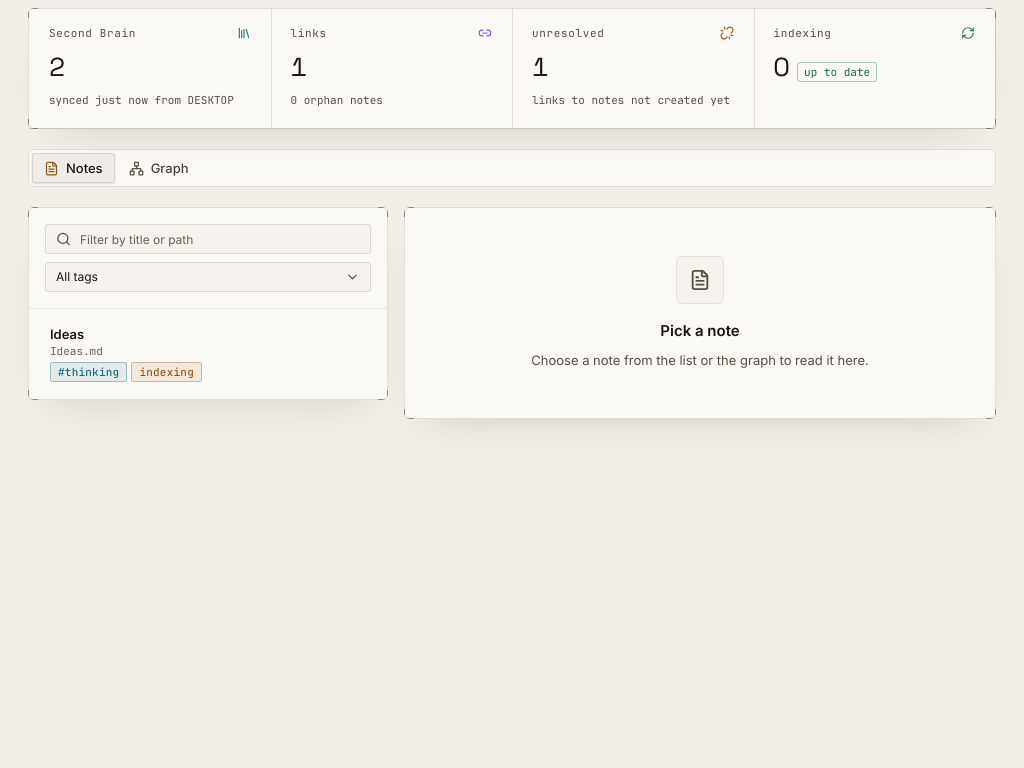
Test case: VaultView › lists notes and renders the selected one with followable wikilinks and backlinks
Click the button "Ideas Ideas.md #thinking indexing" at (67, 334), box [37,317,379,391]
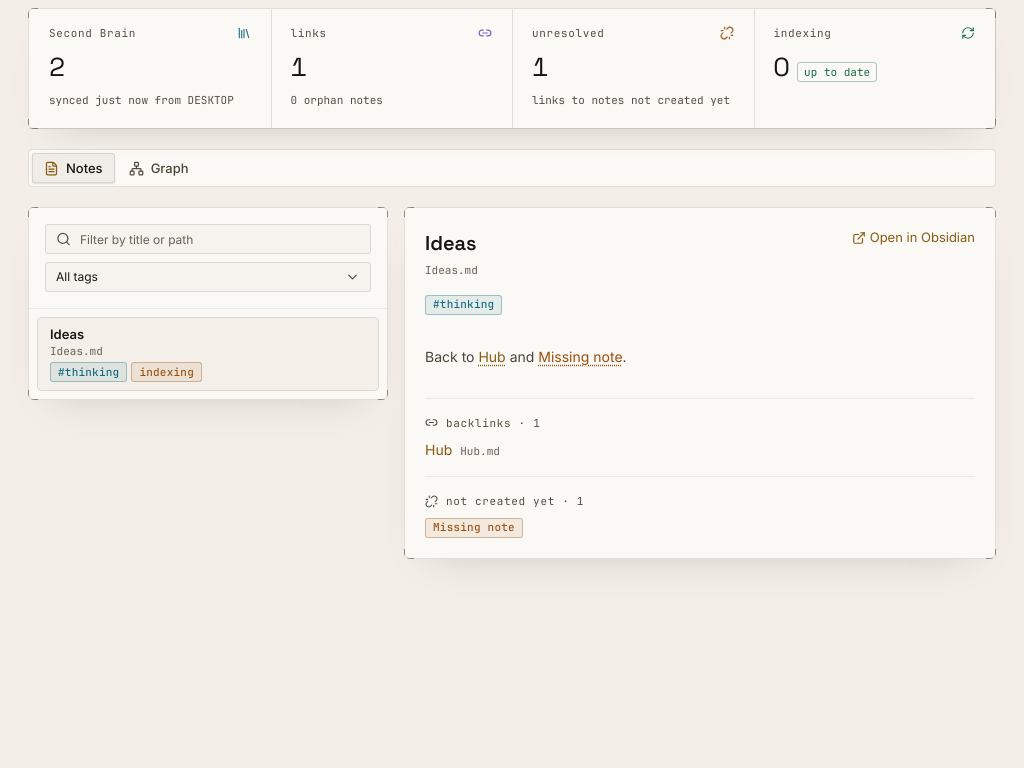
Now the element with test id "vault-note-panel" shows "Open in Obsidian", box [852,228,975,248]
Now the number of buttons "Hub" is 2, box [478,344,506,368]; [425,439,452,460]
Now the text "Missing note" next to "and" is shown, box [538,348,623,364]
